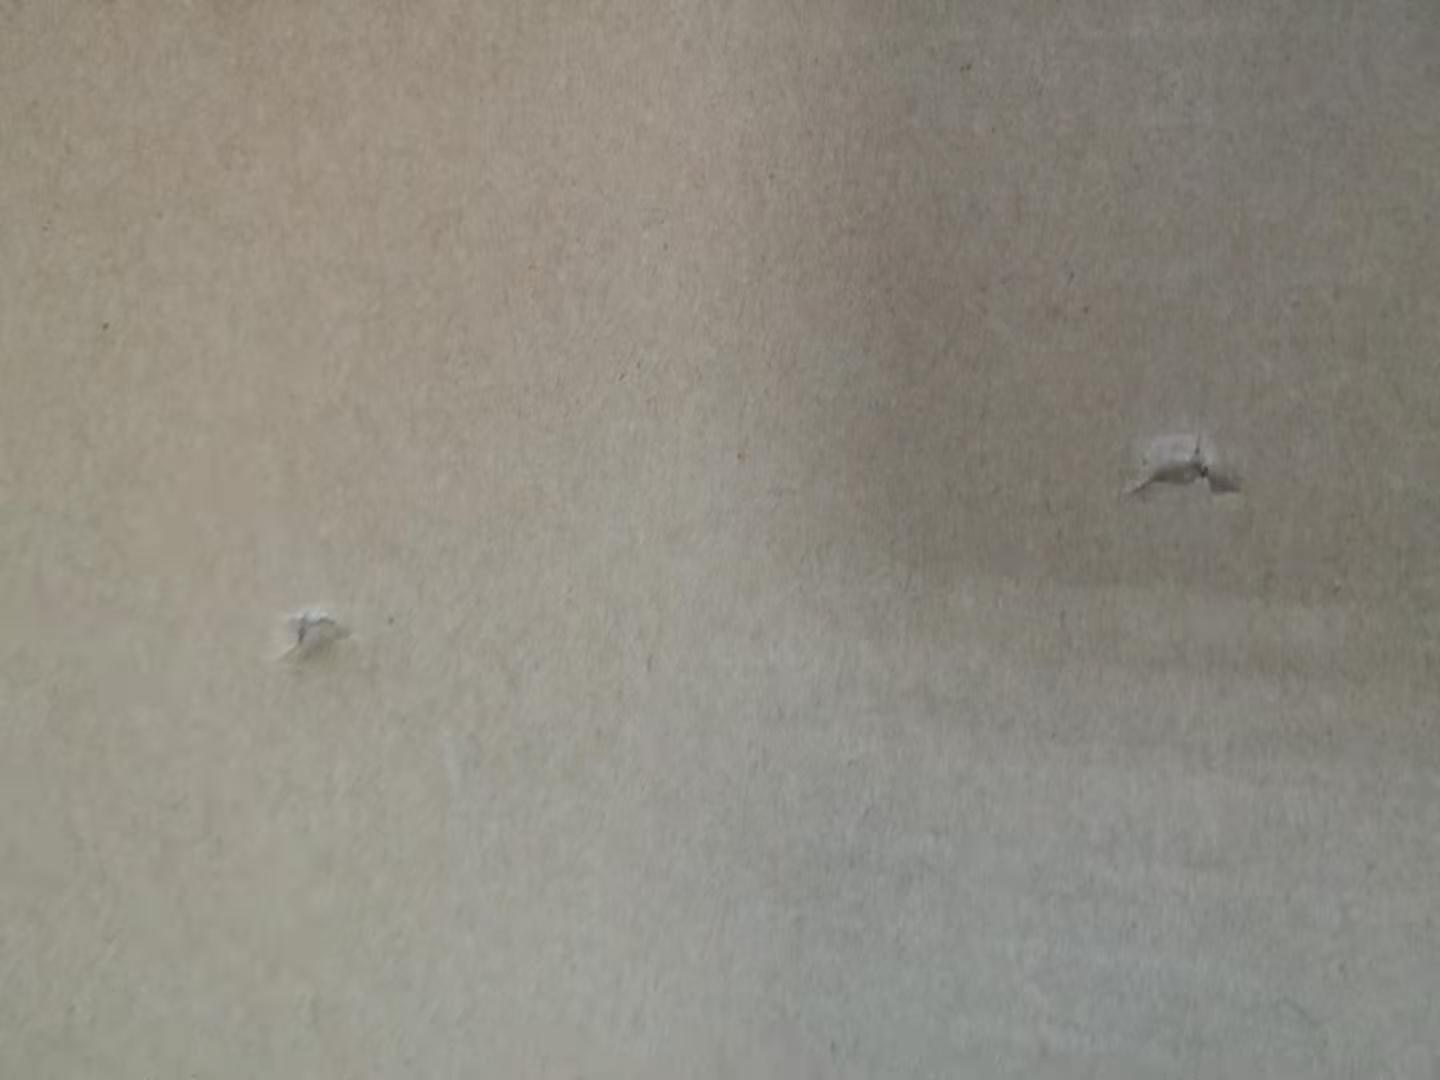defect: (1100, 403, 1257, 534), (249, 562, 381, 704)
